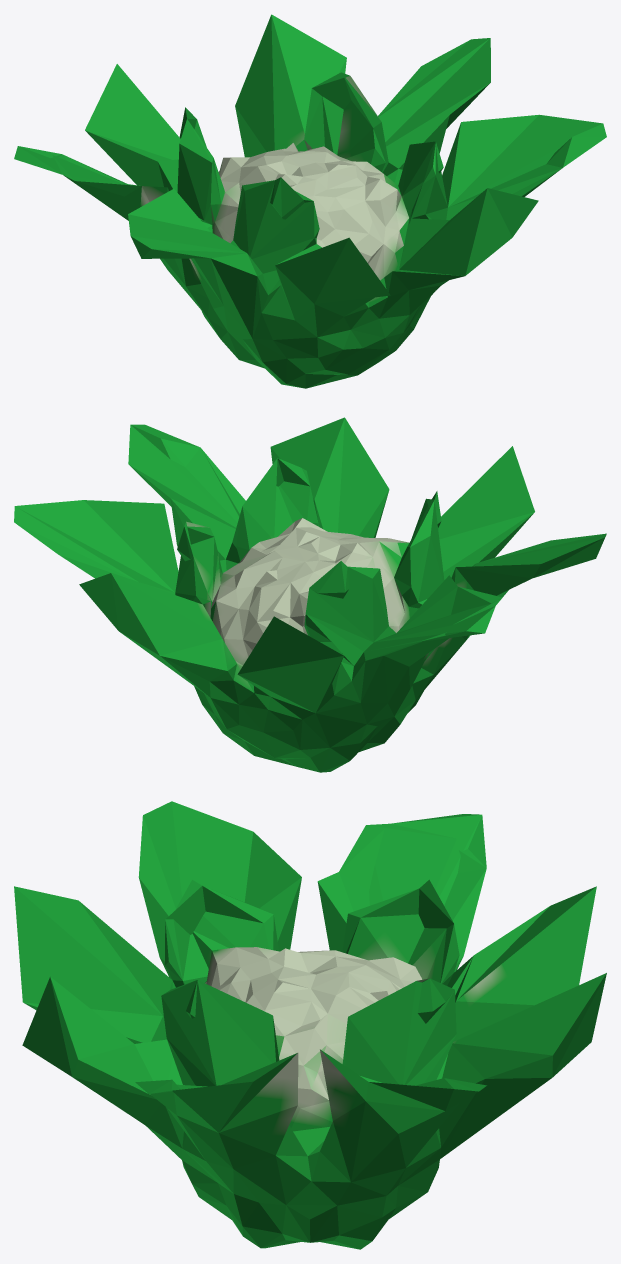
Rendered from ChouFleur.fbx.
3 renders of one model, top to bottom at view 1: azimuth 30°, elevation 25°; view 2: azimuth 150°, elevation 25°; view 3: azimuth 270°, elevation 25°, orthographic. The views are drawn at different scales.
Parts seen in each view (by area): view 1: ChouFleur; view 2: ChouFleur; view 3: ChouFleur.
Part boxes in pixels (x1,y1,x2,y2): ChouFleur: (14, 14, 606, 388); ChouFleur: (14, 417, 606, 772); ChouFleur: (14, 801, 606, 1249).
Size of the model in its own units: 540 by 277 by 472.
1 material, 1 textured.
